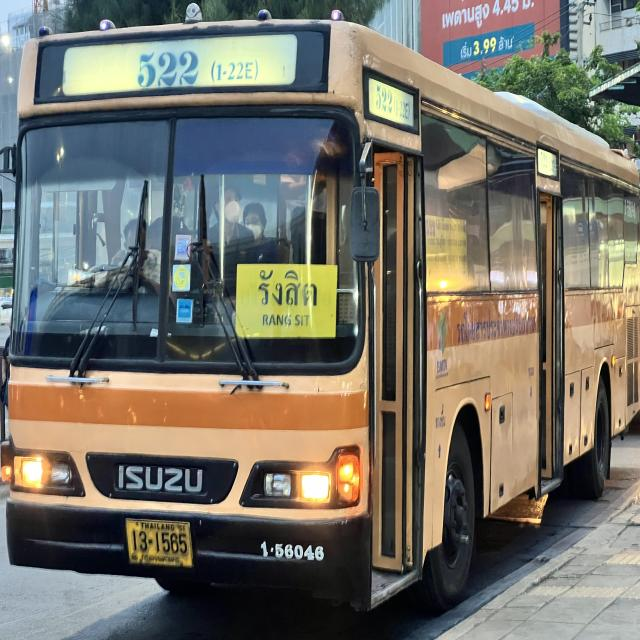BMTA-bus: (0, 3, 640, 629)
Bus-Line-Number: (130, 38, 260, 94)
Destination-Sign-Normal-Expressway: (235, 265, 338, 342)
